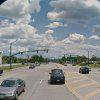Traffic light: (18, 44, 49, 55)
